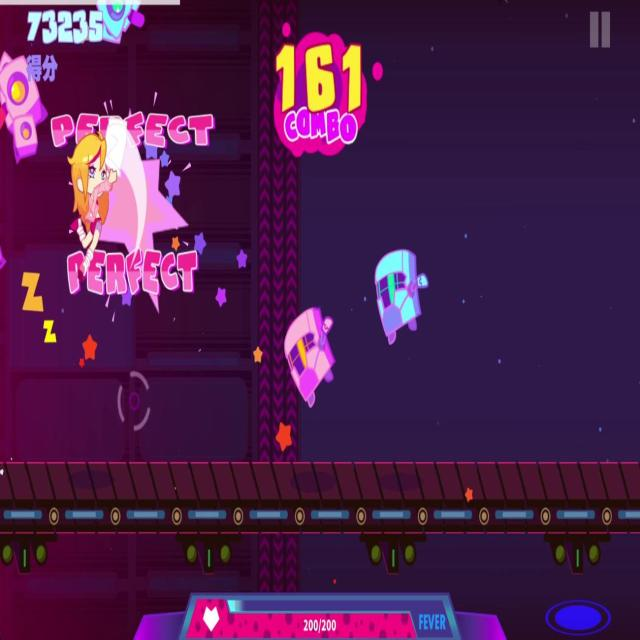jiqi: (0, 42, 52, 167), (282, 300, 337, 410), (370, 253, 431, 347)
